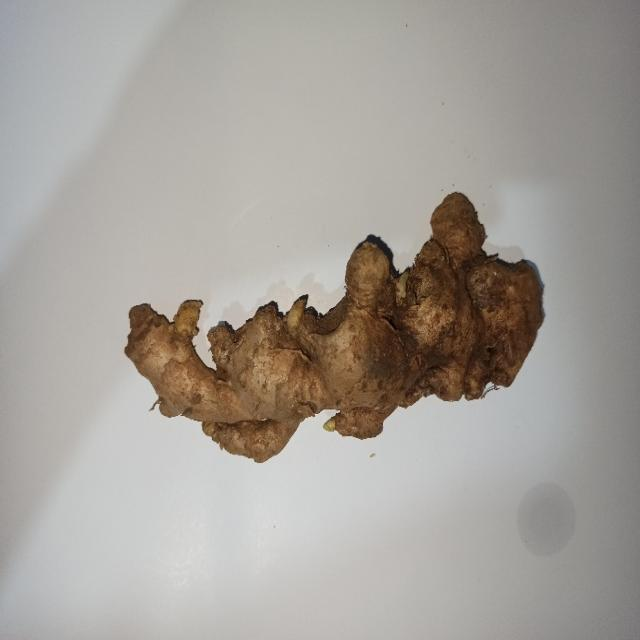ginger: (128, 194, 543, 466)
